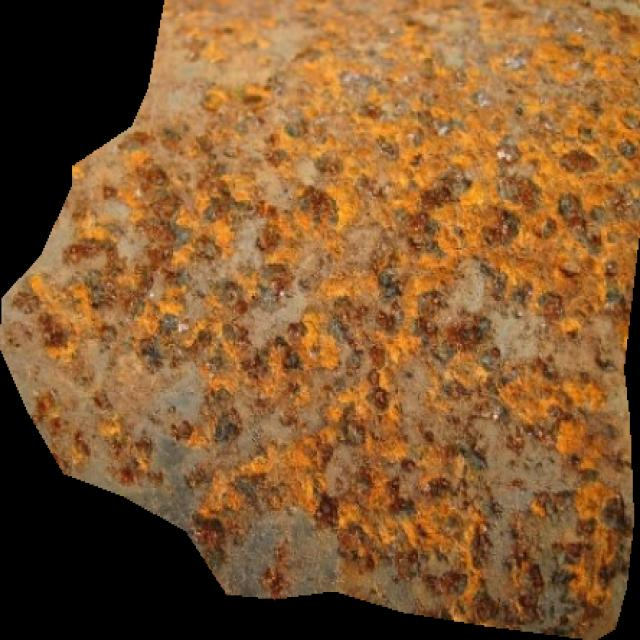Pitting Corrosion: (1, 0, 640, 640)
